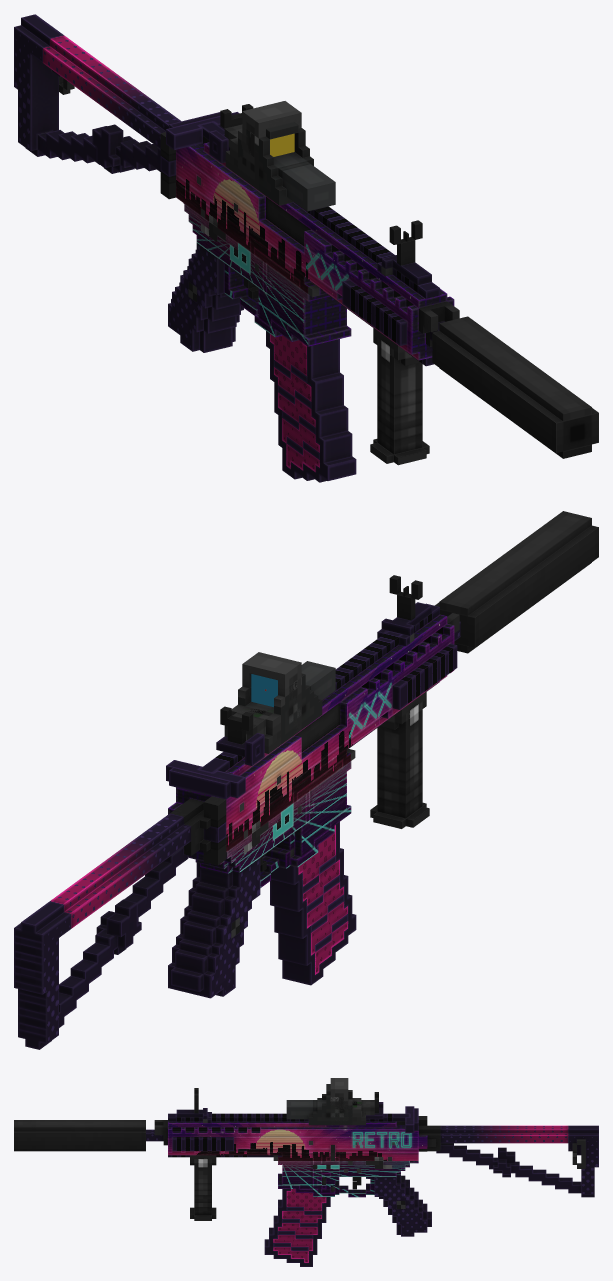
The model's file is RD_KACPDW_RETRO.glb.
The picture shows the model from 3 angles, top to bottom: view 1: azimuth 30°, elevation 25°; view 2: azimuth 150°, elevation 25°; view 3: azimuth 270°, elevation 25°; orthographic projection. The views are drawn at different scales.
Visible parts, largest first — view 1: KACPDW, SILENCER_6X6, KACPDW_CLIP, GRIP1, SCOPE_EOTECH, KACPDW_SCOPE, SCOPE_HOLOSUN, KACPDW_BOLT; view 2: KACPDW, SILENCER_6X6, KACPDW_CLIP, GRIP1, SCOPE_HOLOSUN, KACPDW_SCOPE, SCOPE_EOTECH, KACPDW_BOLT; view 3: KACPDW, SILENCER_6X6, KACPDW_CLIP, SCOPE_EOTECH, GRIP1, SCOPE_HOLOSUN, KACPDW_SCOPE, SCOPE_AIMPOINT, KACPDW_BOLT.
Part boxes in pixels (x1,y1,x2,y2): KACPDW: (14, 14, 459, 366); SILENCER_6X6: (432, 316, 598, 458); KACPDW_CLIP: (266, 331, 356, 482); GRIP1: (370, 327, 429, 465); SCOPE_EOTECH: (238, 122, 335, 211); KACPDW_SCOPE: (209, 104, 431, 285); SCOPE_HOLOSUN: (225, 101, 301, 190); KACPDW_BOLT: (166, 112, 239, 150); KACPDW: (14, 603, 460, 1049); SILENCER_6X6: (435, 511, 598, 653); KACPDW_CLIP: (270, 822, 356, 985); GRIP1: (370, 691, 429, 828); SCOPE_HOLOSUN: (231, 652, 301, 753); KACPDW_SCOPE: (216, 575, 431, 765); SCOPE_EOTECH: (238, 661, 335, 744); KACPDW_BOLT: (166, 760, 245, 799); KACPDW: (146, 1113, 598, 1236); SILENCER_6X6: (14, 1120, 145, 1151); KACPDW_CLIP: (264, 1189, 330, 1266); SCOPE_EOTECH: (286, 1084, 352, 1125); GRIP1: (190, 1155, 216, 1220); SCOPE_HOLOSUN: (330, 1078, 365, 1125); KACPDW_SCOPE: (176, 1088, 383, 1123); SCOPE_AIMPOINT: (335, 1097, 374, 1115); KACPDW_BOLT: (396, 1106, 418, 1132).
Bounding box in the file's own units: 0.0984 × 0.4428 × 1.31.
Materials: 9 (9 with a texture image).
